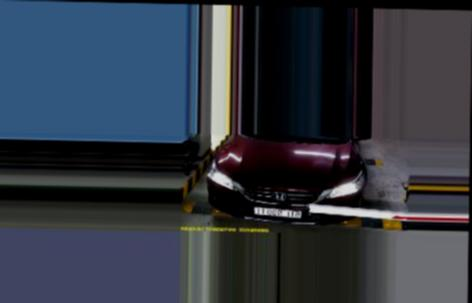License_Plate: (253, 207, 303, 217)
